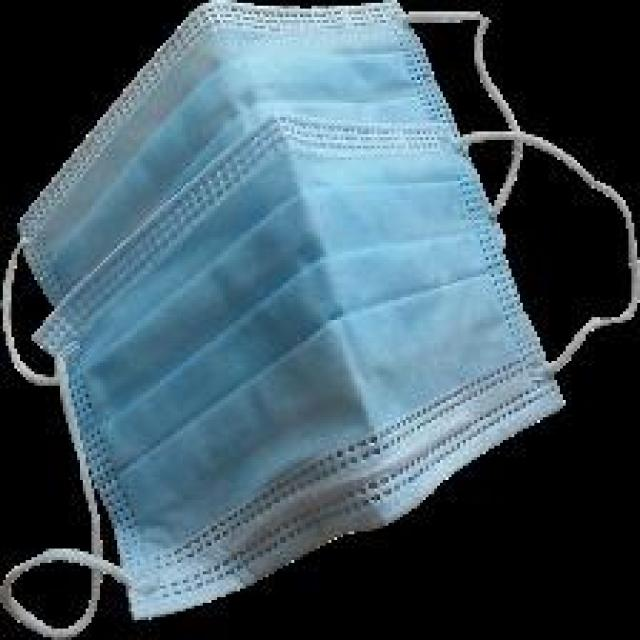Mask: (3, 44, 618, 593)
